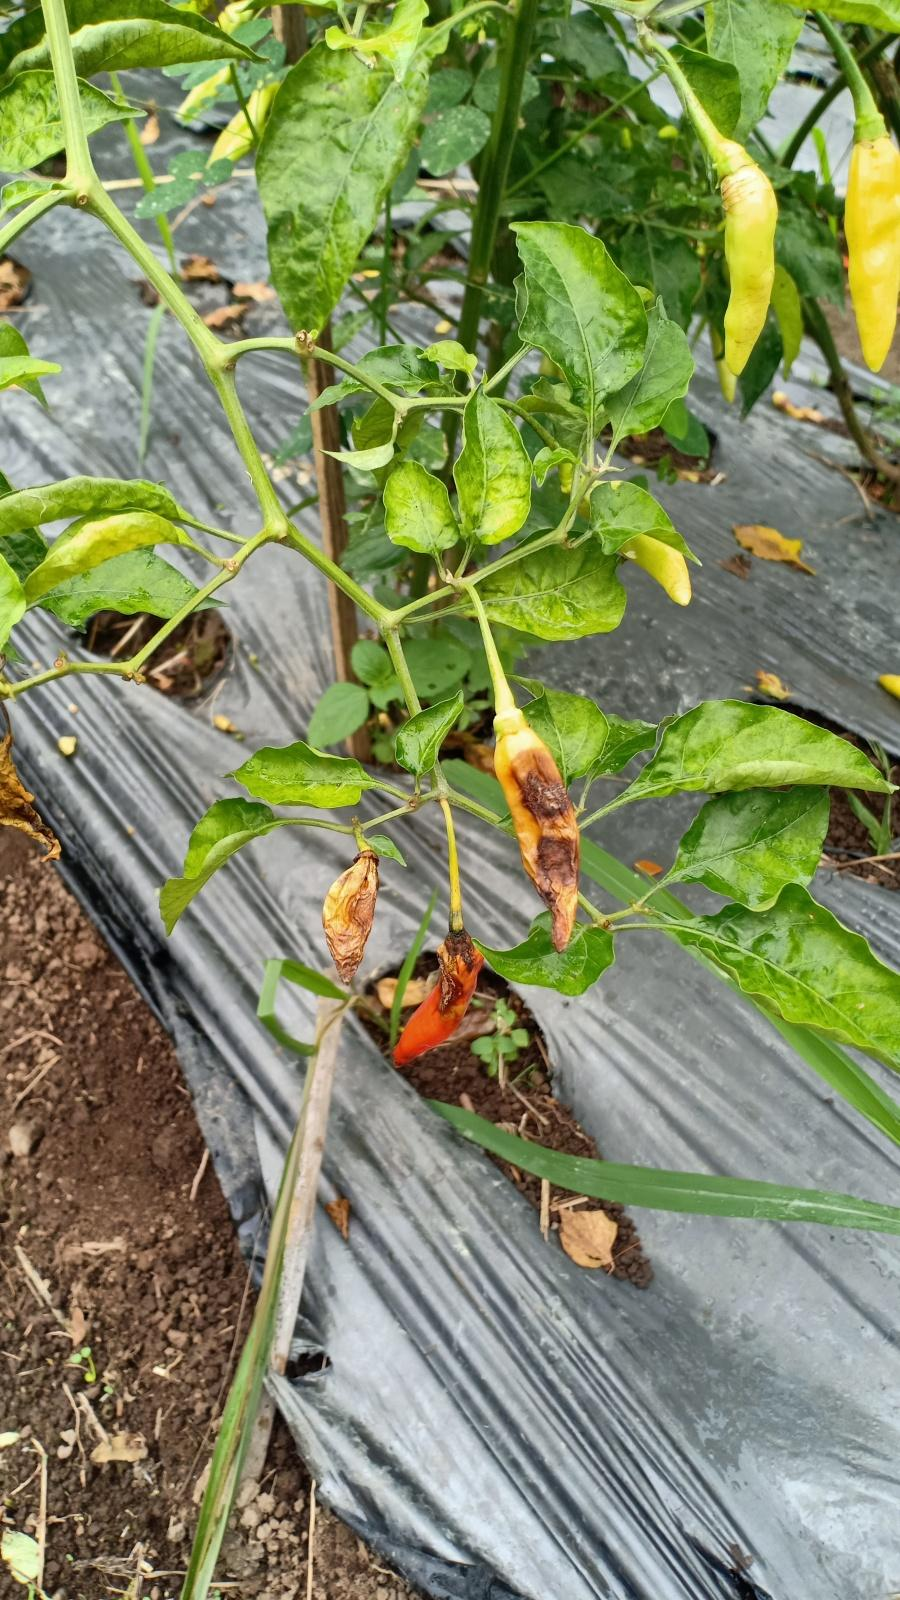antraknosa: (495, 725, 582, 952), (391, 936, 484, 1067), (320, 857, 380, 985)
cabai_normal: (713, 160, 781, 399), (842, 135, 900, 373)
